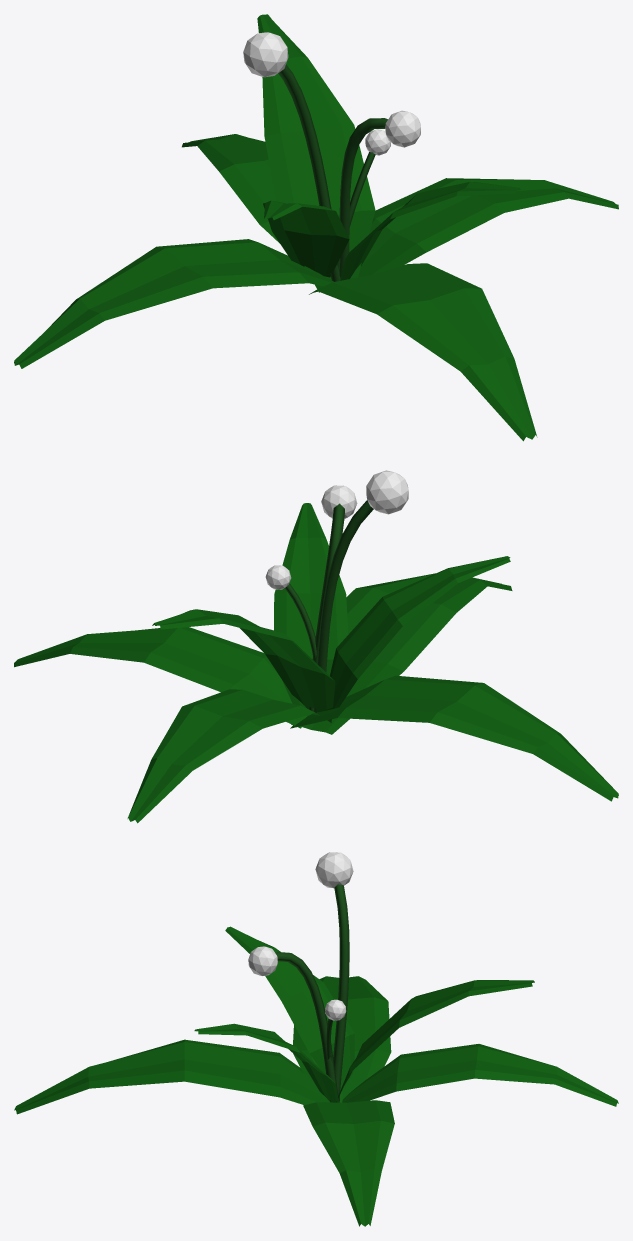
File: glow-bush.fbx
The picture shows the model from 3 angles, top to bottom: view 1: azimuth 30°, elevation 25°; view 2: azimuth 150°, elevation 25°; view 3: azimuth 270°, elevation 25°; orthographic projection. The views are drawn at different scales.
Visible parts, largest first — view 1: Plane.006, BezierCurve; view 2: Plane.006, BezierCurve; view 3: Plane.006, BezierCurve.
Boxes of the visible parts, x1,y1,x2,y2 form: Plane.006: (14, 14, 618, 441); BezierCurve: (278, 64, 387, 281); Plane.006: (14, 470, 618, 823); BezierCurve: (285, 500, 373, 712); Plane.006: (14, 852, 618, 1226); BezierCurve: (275, 884, 349, 1102).
Bounding box in the file's own units: 267 × 116 × 277.
